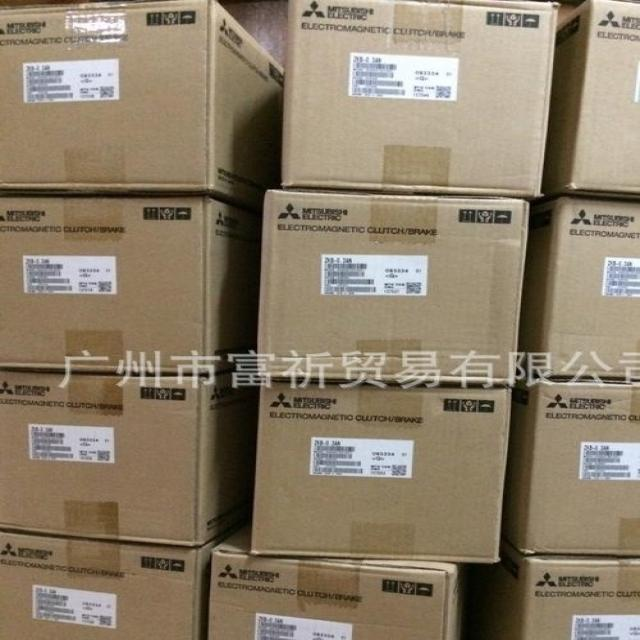box: (0, 0, 284, 211), (280, 0, 561, 200), (256, 188, 530, 387), (248, 381, 512, 564), (0, 196, 264, 376), (0, 368, 259, 547), (0, 514, 251, 640), (210, 516, 463, 640), (502, 378, 640, 559), (520, 198, 640, 381), (471, 536, 640, 639)
